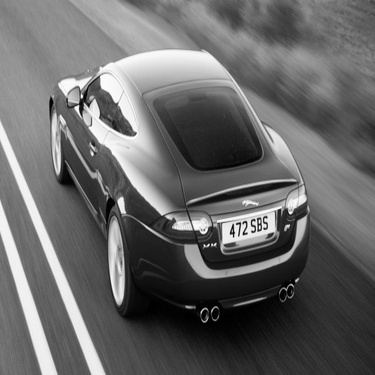car: (40, 38, 314, 325)
